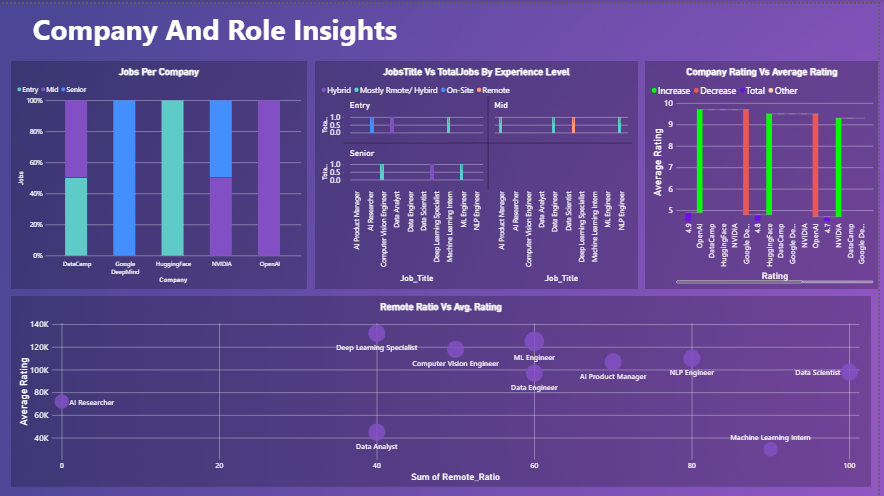

This screenshot's page, from the dashboard's own definition file:
{"tool":"powerbi","page":{"name":"Company & Role Insight","canvas":[2500,1400],"ordinal":2},"visuals":[{"type":"textbox","box":[0,17.1,1223.6,125.2],"z":0},{"type":"hundredPercentStackedColumnChart","title":"Jobs Per Company","fields":{"Category":["Dim_Companies.Company_Name"],"Series":["Fact_Jobs.Experience_Level"],"Y":["All_Measures.Job_Per_Company"]},"box":[31.3,162.2,842.3,648.8],"z":1000},{"type":"clusteredColumnChart","title":"JobsTitle Vs TotalJobs By Experience Level","fields":{"Category":["Fact_Jobs.Job_Title"],"Rows":["Fact_Jobs.Experience_Level"],"Series":["Fact_Jobs.isRemote"],"Y":["All_Measures.Total_Jobs"]},"box":[896.3,162.2,919.1,648.8],"z":2000},{"type":"waterfallChart","title":"Company Rating Vs Average Rating","fields":{"Breakdown":["Dim_Companies.Company_Name"],"Category":["Dim_Companies.Rating"],"Y":["All_Measures.Average_Rateing"]},"box":[1835.4,162.2,665.9,648.8],"z":3000},{"type":"scatterChart","title":"Remote Ratio Vs Avg. Rating","fields":{"Category":["Fact_Jobs.Job_Title"],"Size":["All_Measures.Skill_Usage_Count"],"X":["Sum(Fact_Jobs.Remote_Ratio)"],"Y":["Fact_Jobs.Salary_USD"]},"box":[31.3,830.9,2447.2,543.5],"z":4000}]}

Visuals, with their boxes in screenshot pixels (x1, y1, x2, y2), scaled from the page's 2500x1400 canvas onto the 884x496 screenshot:
textbox: (0,6,433,50)
"Jobs Per Company" hundredPercentStackedColumnChart: (11,57,309,287)
"JobsTitle Vs TotalJobs By Experience Level" clusteredColumnChart: (317,57,642,287)
"Company Rating Vs Average Rating" waterfallChart: (649,57,883,287)
"Remote Ratio Vs Avg. Rating" scatterChart: (11,294,876,487)
